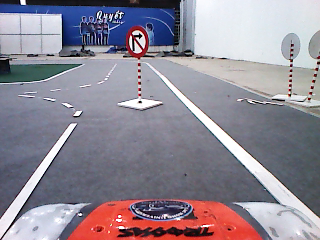ban: (126, 25, 149, 58)
